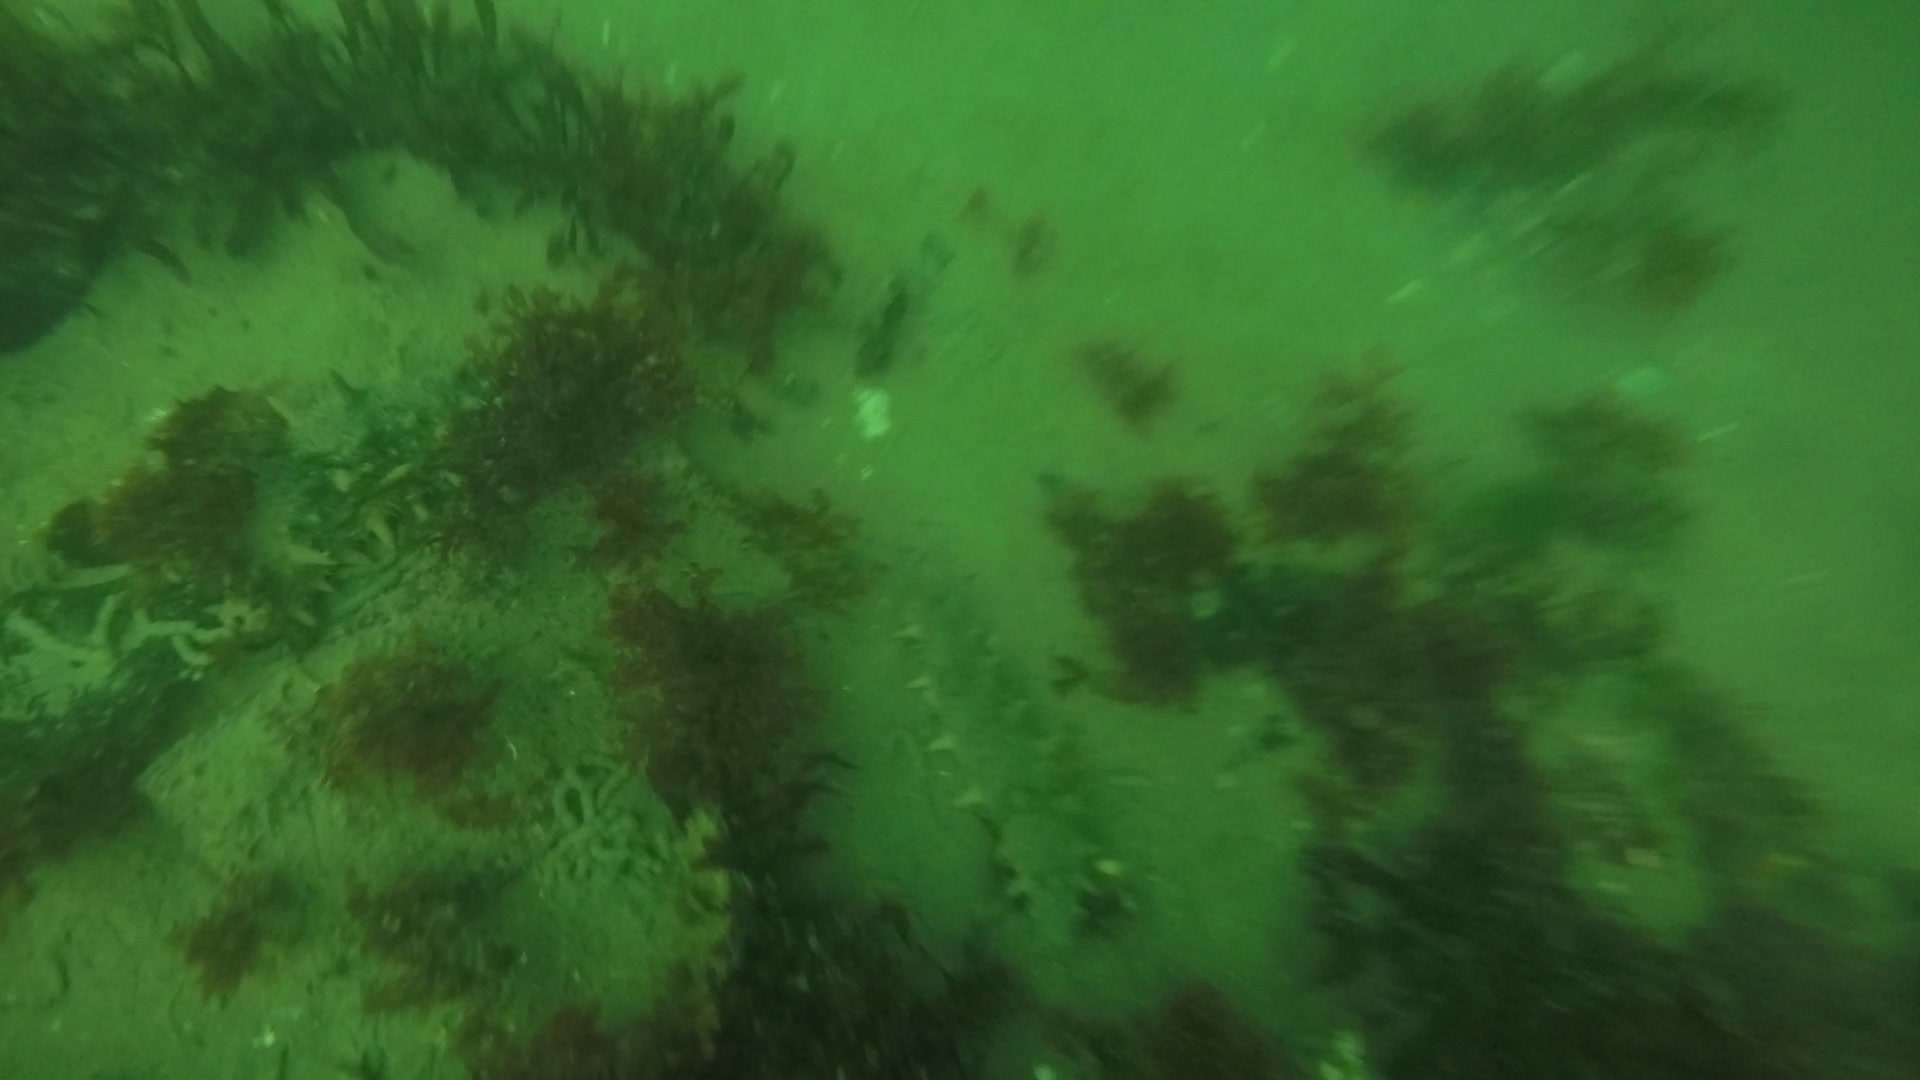holothurian: (894, 572, 1121, 936), (227, 371, 422, 622)
